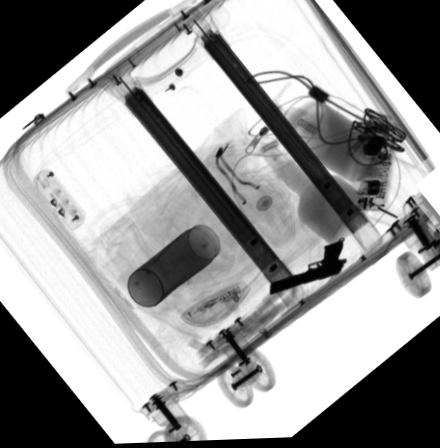Gun: (269, 241, 347, 298)
